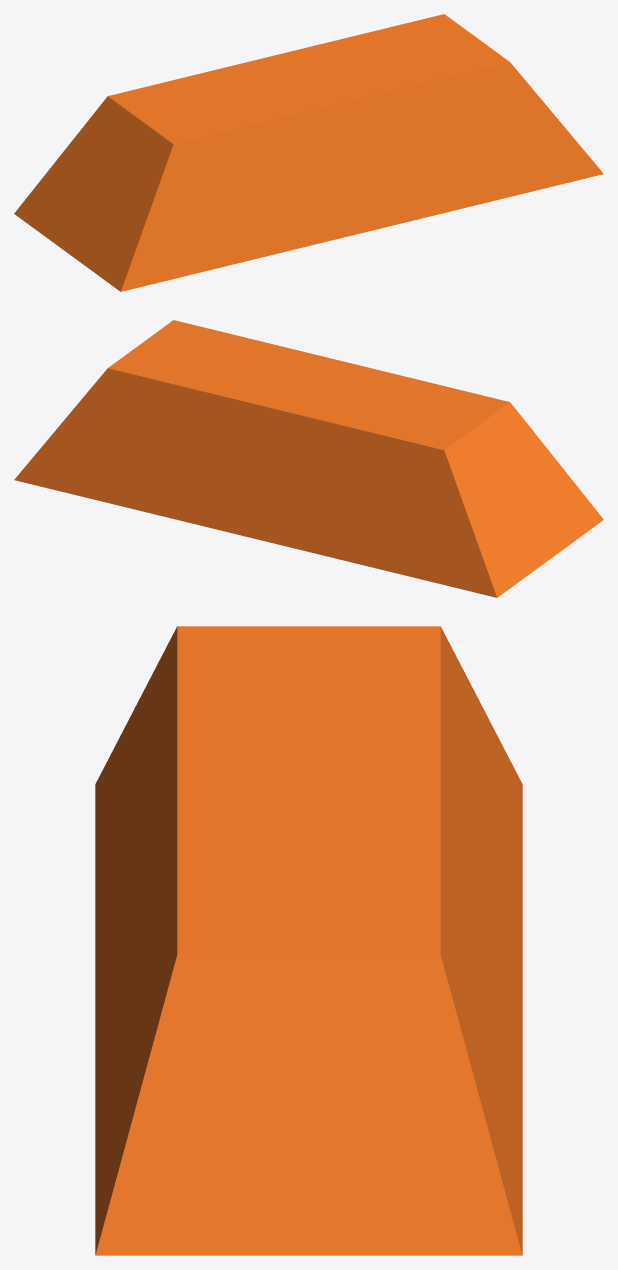
Rendered from gold.fbx.
3 renders of one model, top to bottom at view 1: azimuth 30°, elevation 25°; view 2: azimuth 150°, elevation 25°; view 3: azimuth 270°, elevation 25°, orthographic. The views are drawn at different scales.
Parts seen in each view (by area): view 1: Box001; view 2: Box001; view 3: Box001.
Part boxes in pixels (x1,y1,x2,y2): Box001: [14, 14, 603, 291]; Box001: [14, 320, 603, 597]; Box001: [95, 626, 522, 1255].
Bounding box in the file's own units: 56.91 × 12.92 × 21.78.
